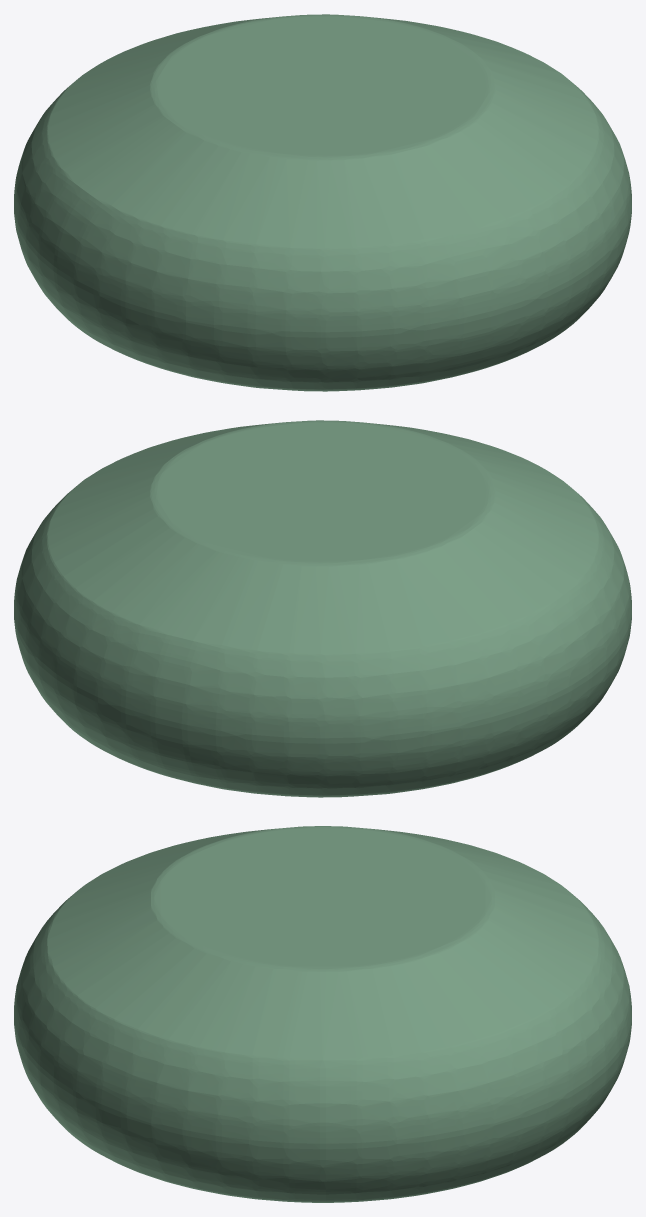
File: wheel_l2.obj
3 views of the same model, one above another, from view 1: azimuth 30°, elevation 25°; view 2: azimuth 150°, elevation 25°; view 3: azimuth 270°, elevation 25° (orthographic).
Parts seen in each view (by area): view 1: geometry_0; view 2: geometry_0; view 3: geometry_0.
Part boxes in pixels (x1=…): geometry_0: x1=14, y1=14, x2=631, y2=391; geometry_0: x1=14, y1=420, x2=631, y2=797; geometry_0: x1=14, y1=826, x2=631, y2=1202.
Bounding box in the file's own units: 0.1746 × 0.0769 × 0.1745.
